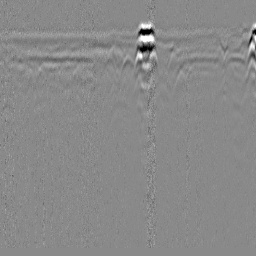cavity: (118, 54, 138, 87)
